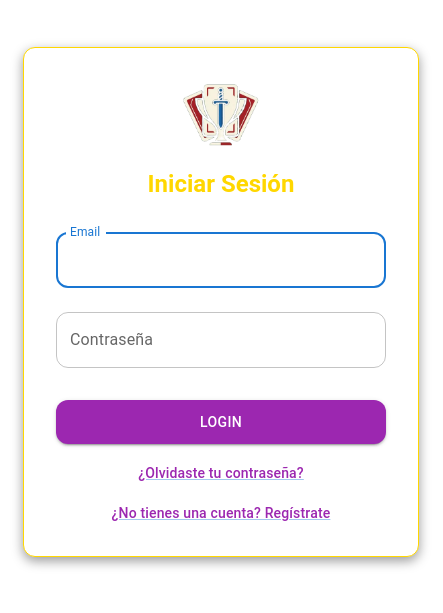
Test: Login Component › muestra error cuando el login falla
In the field labelled "Email": (221, 260) [56,232,386,288], type "test@example.com"
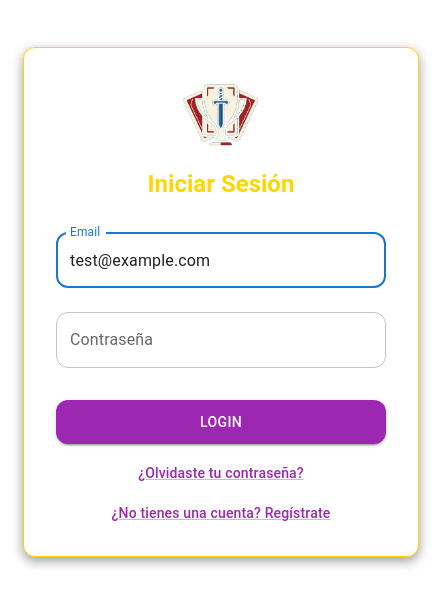
In the password field labelled "Contraseña": (221, 340) [56,312,386,368], type "wrongpassword"
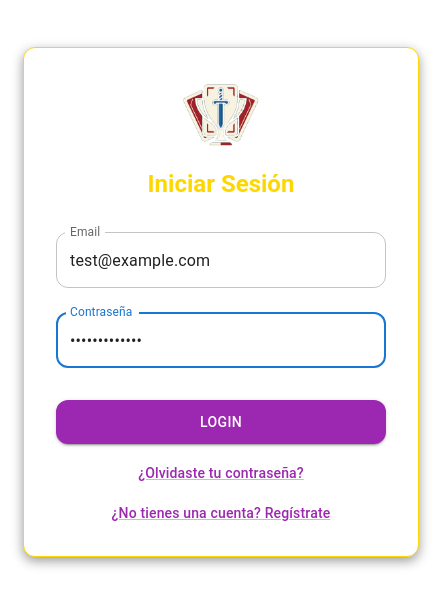
Click the button "Login": (221, 422) [56,400,386,444]
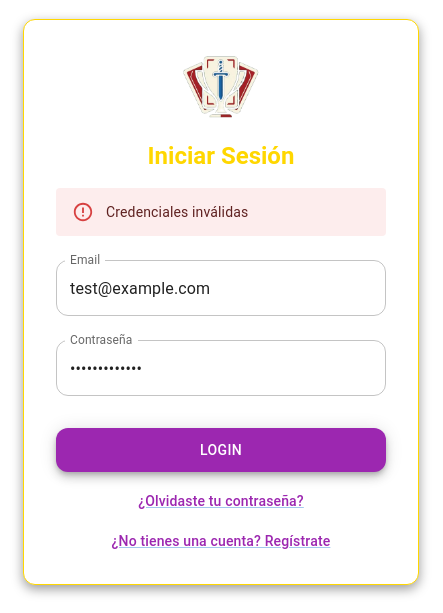
Check: the text "Credenciales inválidas" is shown, box [106,204,248,220]
